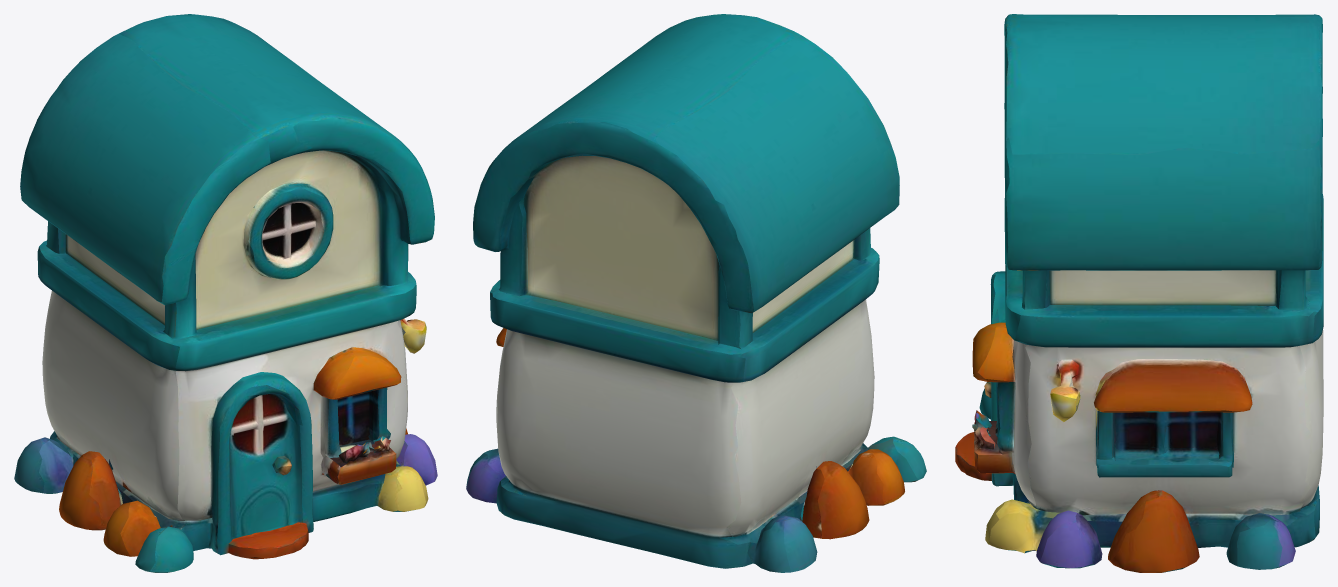
File: townhouse.glb
3 renders of one model, left to right at view 1: azimuth 30°, elevation 25°; view 2: azimuth 150°, elevation 25°; view 3: azimuth 270°, elevation 25°, orthographic. The views are drawn at different scales.
Parts seen in each view (by area): view 1: townhouse; view 2: townhouse; view 3: townhouse.
Part boxes in pixels (box(x1,y1,x2,y2)): townhouse: box(14, 14, 437, 572); townhouse: box(466, 14, 926, 572); townhouse: box(955, 14, 1323, 572).
Size of the model in its own units: 0.8649 by 1 by 0.7386.
Materials: 1 (1 with a texture image).
